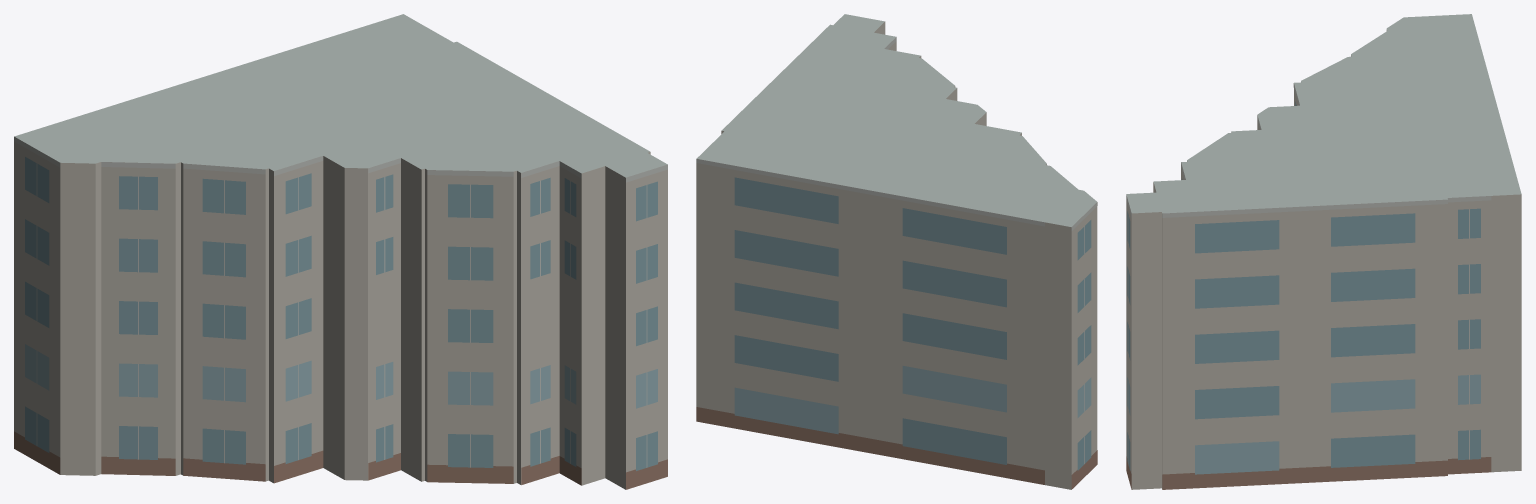
The model's file is survey-upis-32616267.glb.
3 views of the same model, side by side, from view 1: azimuth 30°, elevation 25°; view 2: azimuth 150°, elevation 25°; view 3: azimuth 270°, elevation 25° (orthographic). The views are drawn at different scales.
Parts seen in each view (by area): view 1: survey-upis-32616267.tmp; view 2: survey-upis-32616267.tmp; view 3: survey-upis-32616267.tmp.
Part boxes in pixels (<box>): survey-upis-32616267.tmp: <box>14,14,667,489</box>; survey-upis-32616267.tmp: <box>696,14,1097,489</box>; survey-upis-32616267.tmp: <box>1126,14,1521,489</box>.
Size of the model in its own units: 23.38 by 15.1 by 19.59.
